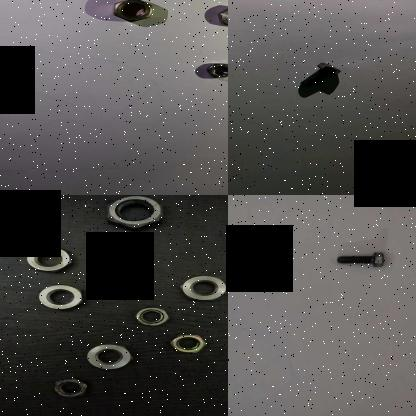Bolts: (294, 62, 344, 88), (334, 249, 389, 270)
NUTS: (95, 195, 166, 233), (179, 268, 227, 304), (84, 338, 138, 370), (23, 242, 75, 274), (36, 282, 88, 312), (48, 375, 90, 400), (109, 0, 155, 22), (164, 330, 208, 352), (130, 305, 172, 327), (0, 205, 22, 237), (201, 61, 228, 79), (215, 3, 228, 27)
